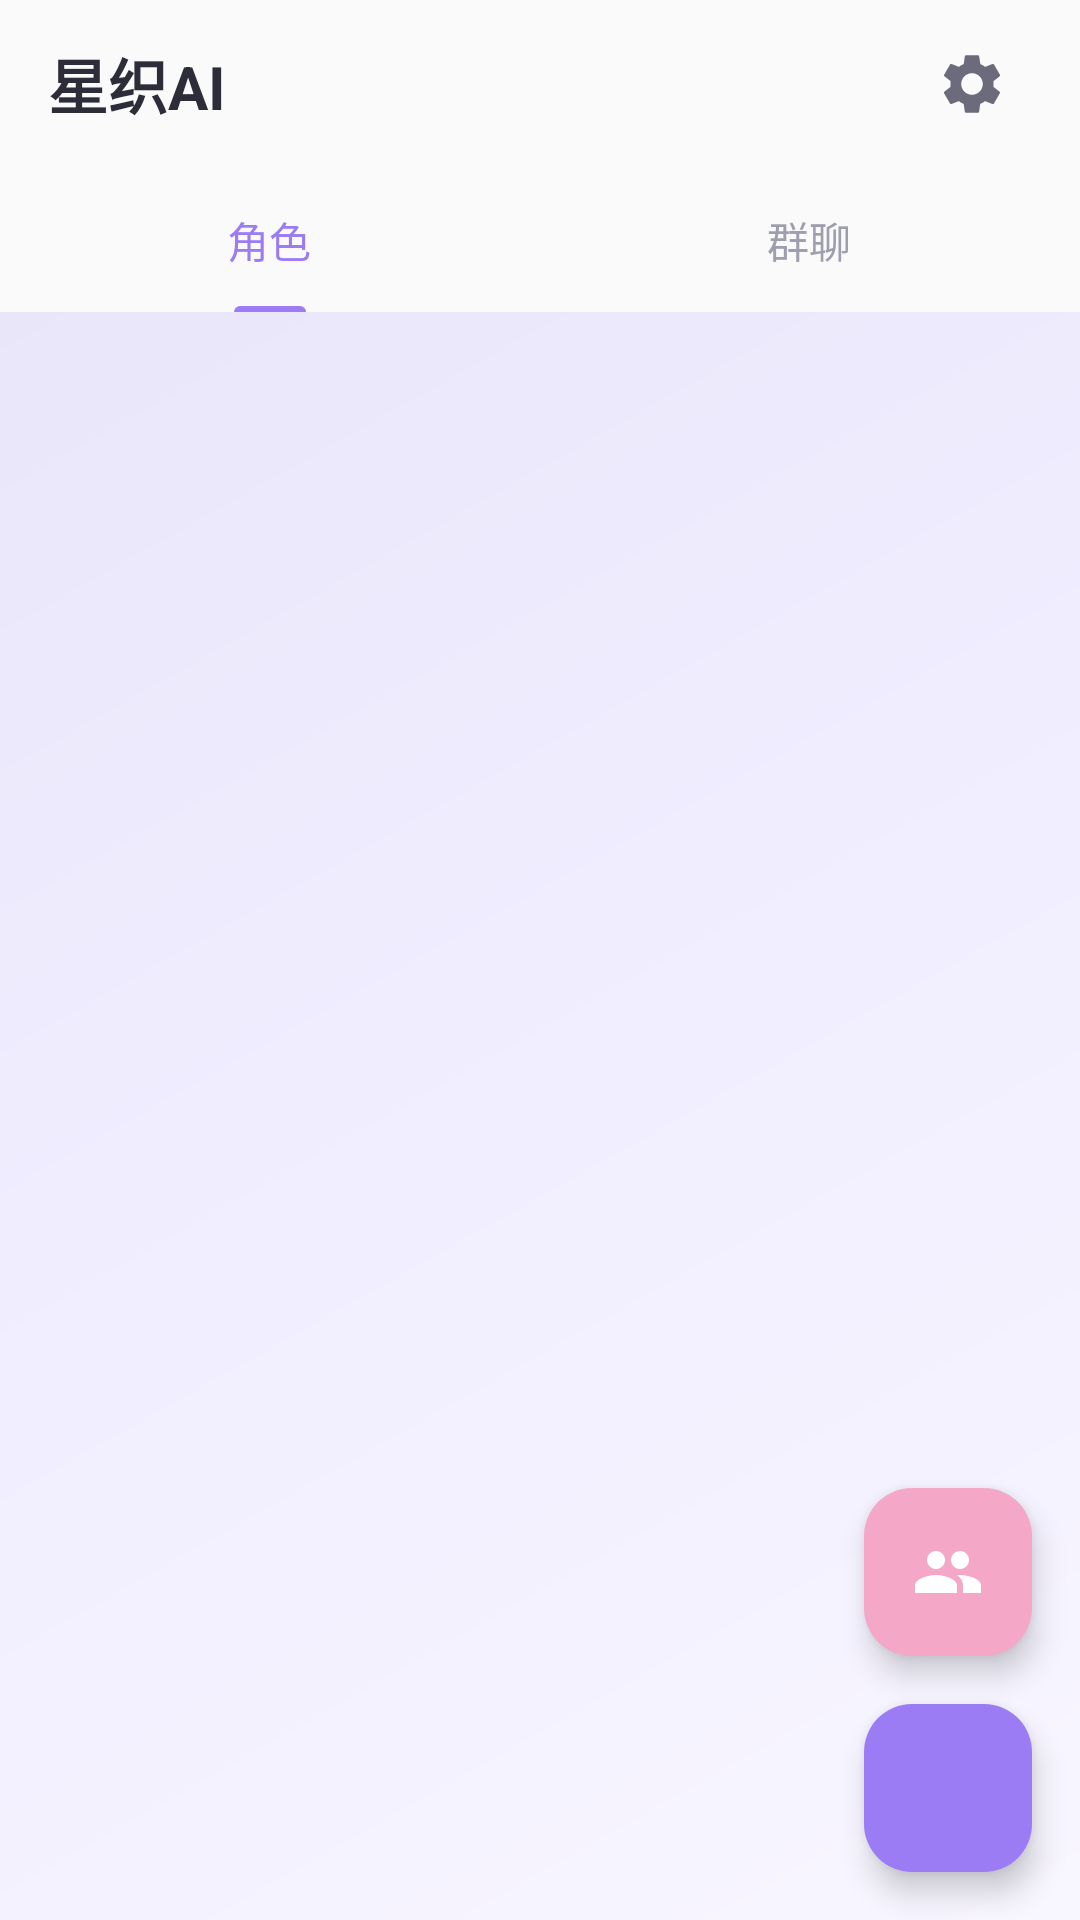

Icons on this 1080px x 1920px Android screen, each with the point to tap as (x=x, y=y):
创建群聊: (x=948, y=1572)
设置: (x=972, y=84)
